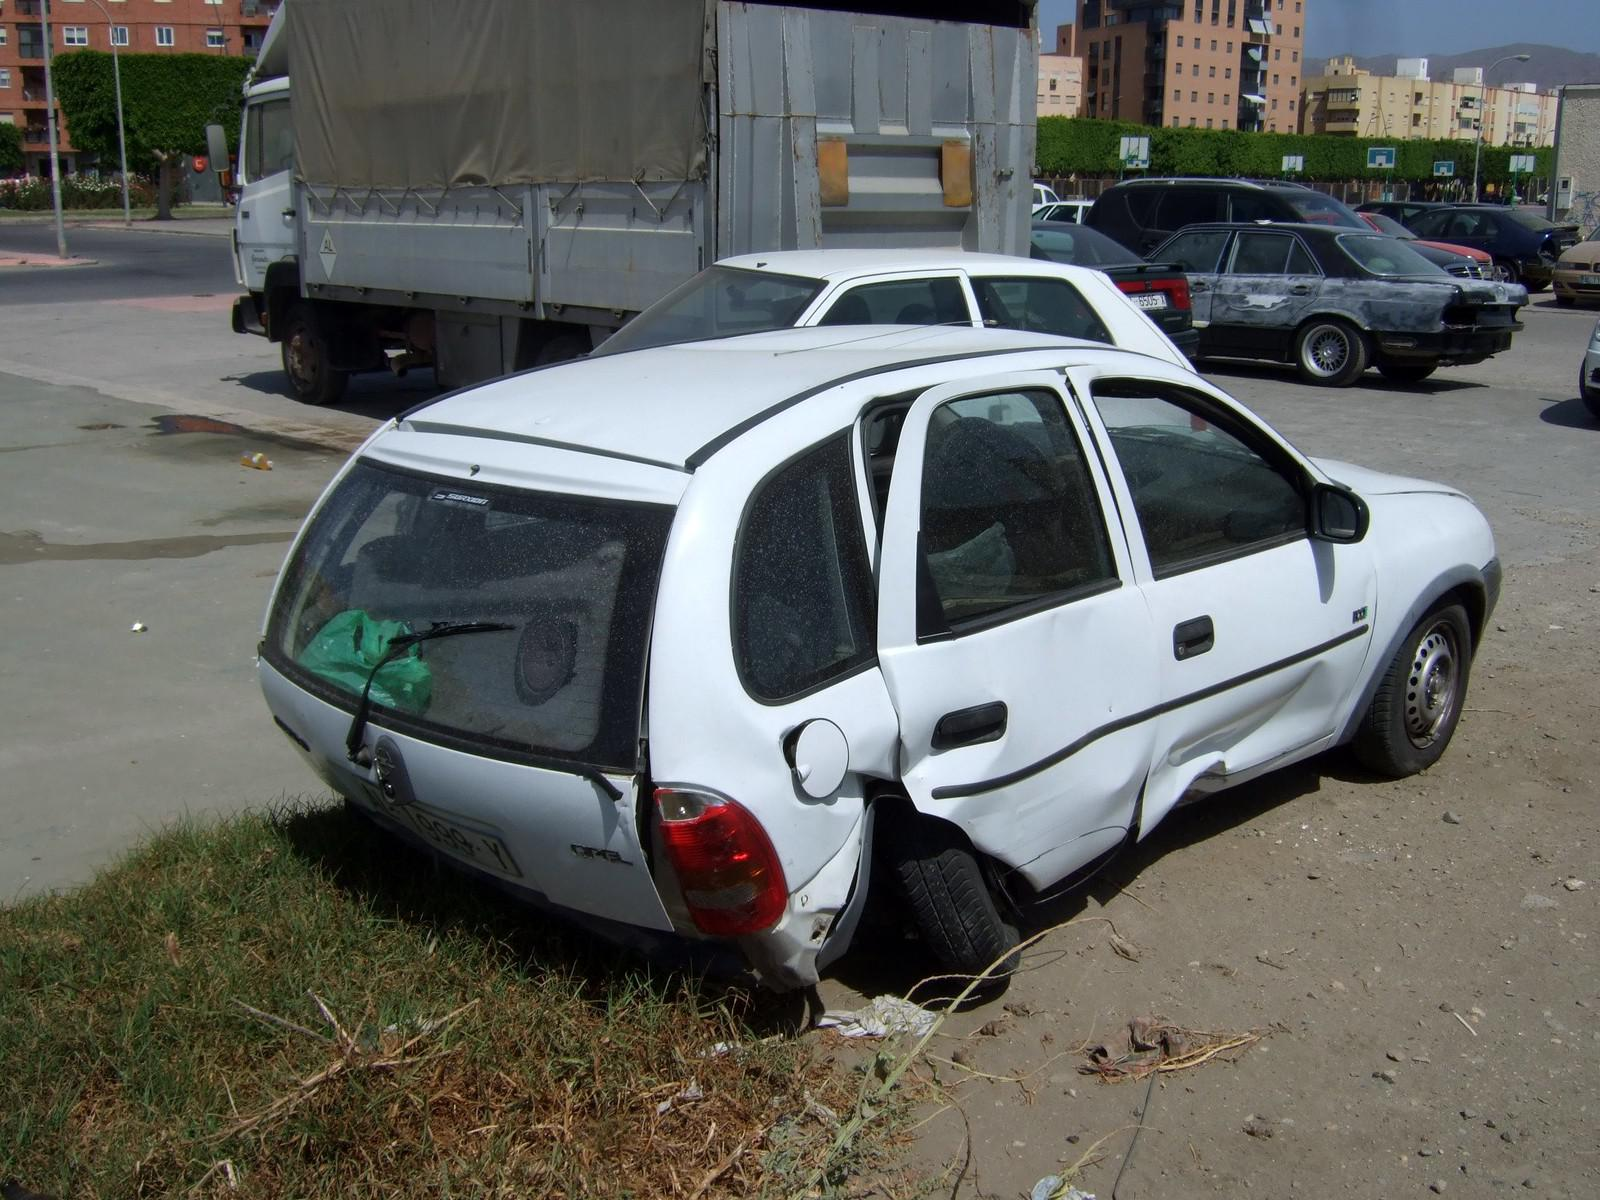doorouter-dent: (876, 626, 1144, 908), (1155, 567, 1361, 811)
quaterpanel-dent: (645, 697, 884, 933)
